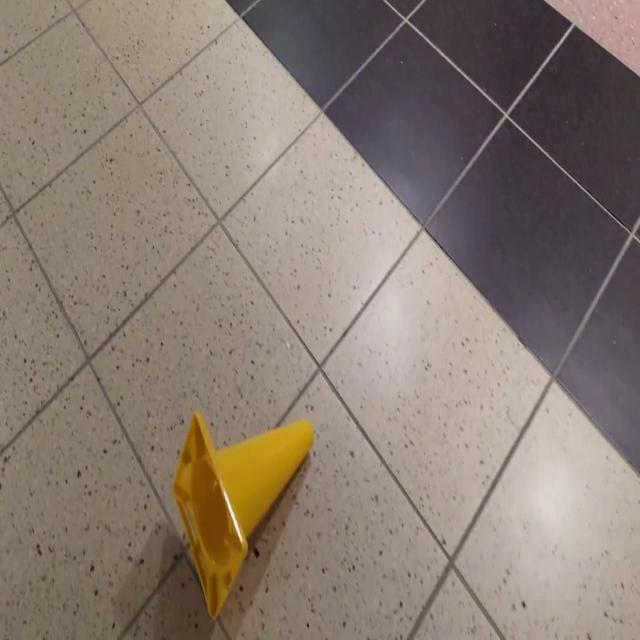frc_cone: (170, 411, 316, 623)
